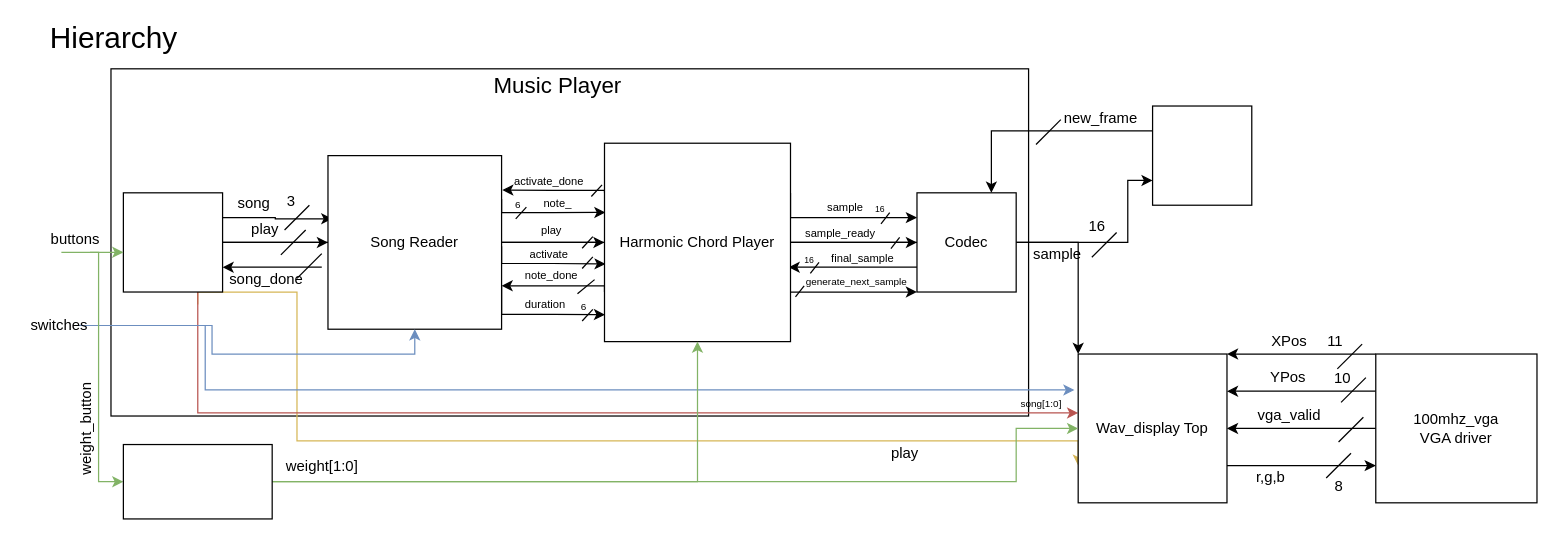
Some shapes in this 1559 by 541 pixel diagram are drawn without their labels. The box of each missing label's shape, as (x1, y1, x2, y2) in pixels:
AC97 Audio Interface: (1151, 105, 1252, 205)
Interactive Instrument Editor: (122, 443, 272, 519)
MCU: (122, 192, 223, 292)
